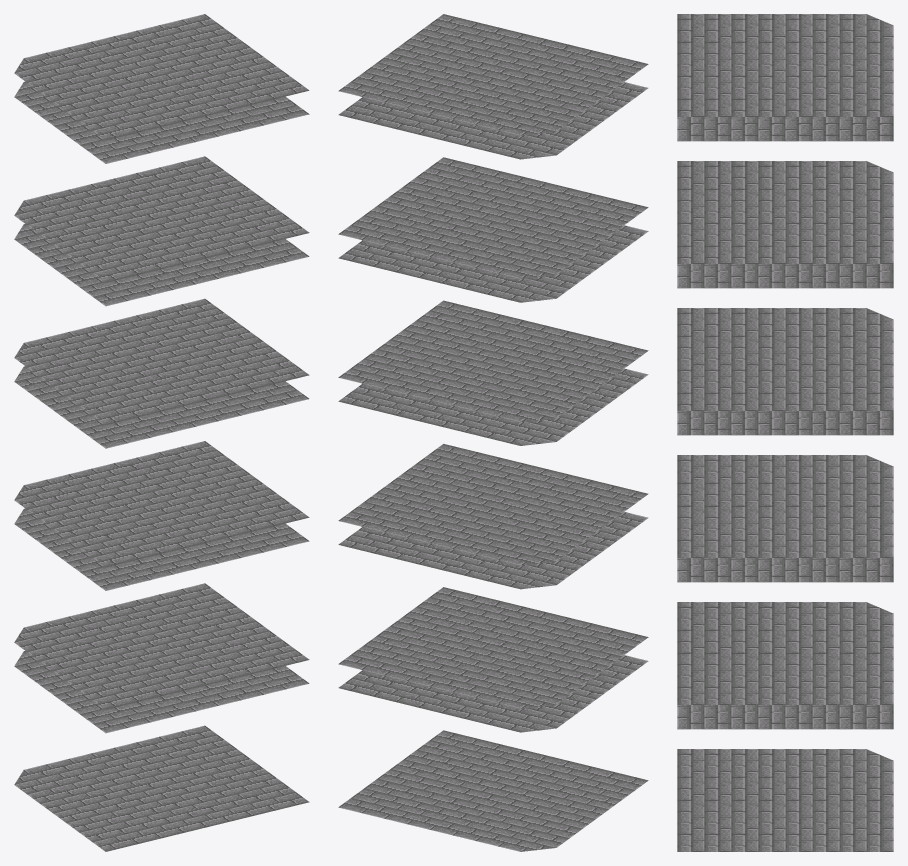
The model's file is Stone_Bricks_Chunk_38_2.fbx.
3 views of the same model, side by side, from view 1: azimuth 30°, elevation 25°; view 2: azimuth 150°, elevation 25°; view 3: azimuth 270°, elevation 25° (orthographic). The views are drawn at different scales.
Parts seen in each view (by area): view 1: Stone_Bricks_Chunk_38_2; view 2: Stone_Bricks_Chunk_38_2; view 3: Stone_Bricks_Chunk_38_2.
Part boxes in pixels (<box>): Stone_Bricks_Chunk_38_2: <box>14,14,309,851</box>; Stone_Bricks_Chunk_38_2: <box>338,14,648,851</box>; Stone_Bricks_Chunk_38_2: <box>677,14,893,851</box>.
Bounding box in the file's own units: 900 × 3000 × 800.
1 material, 1 textured.
